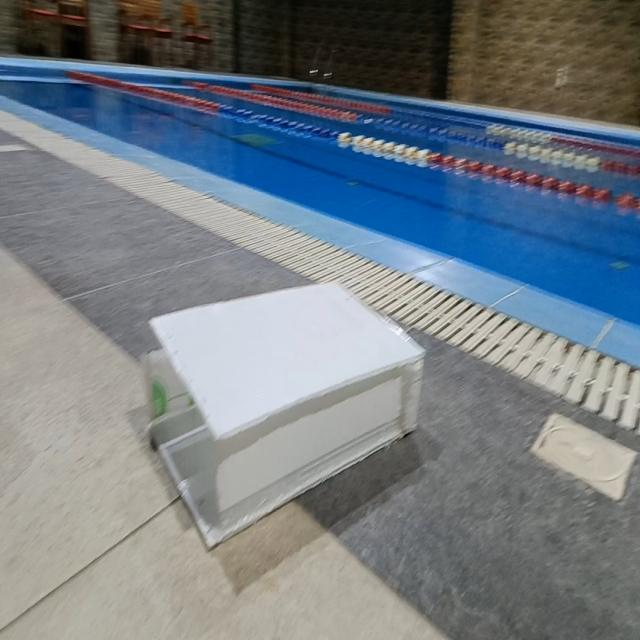Cuboid: (143, 278, 427, 550)
